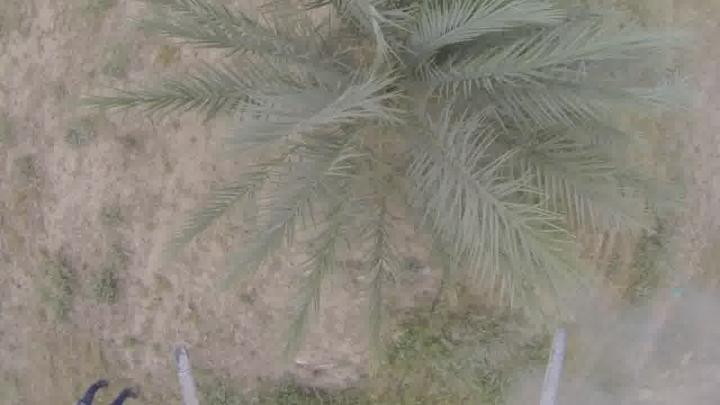Date-Palm-Crown: (287, 0, 569, 234)
